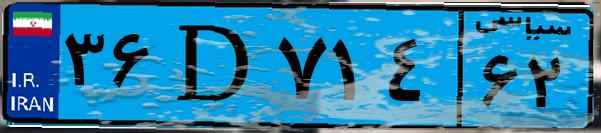1: (330, 28, 385, 110)
2: (525, 38, 570, 115)
3: (57, 26, 110, 100)
4: (385, 28, 445, 110)
6: (475, 38, 525, 113), (110, 28, 158, 98)
7: (270, 28, 330, 110)
D: (158, 12, 270, 120)
